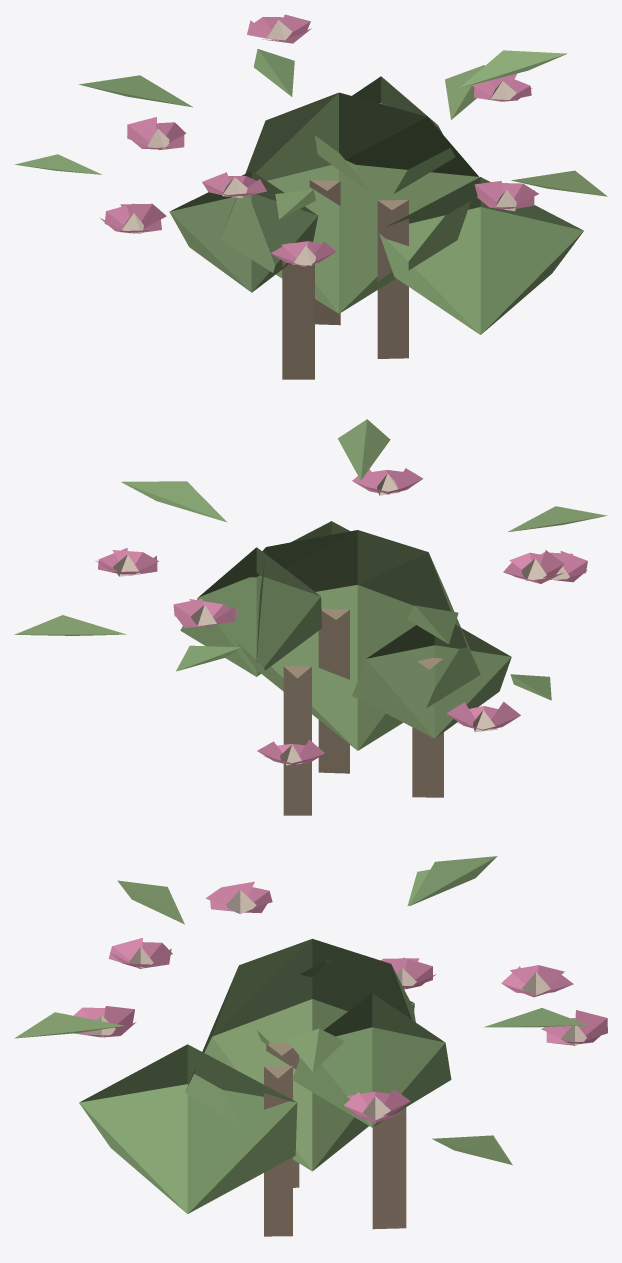
The model's file is guan.yueju@flowering__bloom.glb.
3 renders of one model, top to bottom at view 1: azimuth 30°, elevation 25°; view 2: azimuth 150°, elevation 25°; view 3: azimuth 270°, elevation 25°, orthographic. The views are drawn at different scales.
Parts seen in each view (by area): view 1: guan.yueju@flowering__bloom; view 2: guan.yueju@flowering__bloom; view 3: guan.yueju@flowering__bloom.
Part boxes in pixels (<box>): guan.yueju@flowering__bloom: <box>15,14,607,379</box>; guan.yueju@flowering__bloom: <box>14,419,607,815</box>; guan.yueju@flowering__bloom: <box>14,856,607,1236</box>.
Size of the model in its own units: 1.84 by 0.9184 by 1.78.
